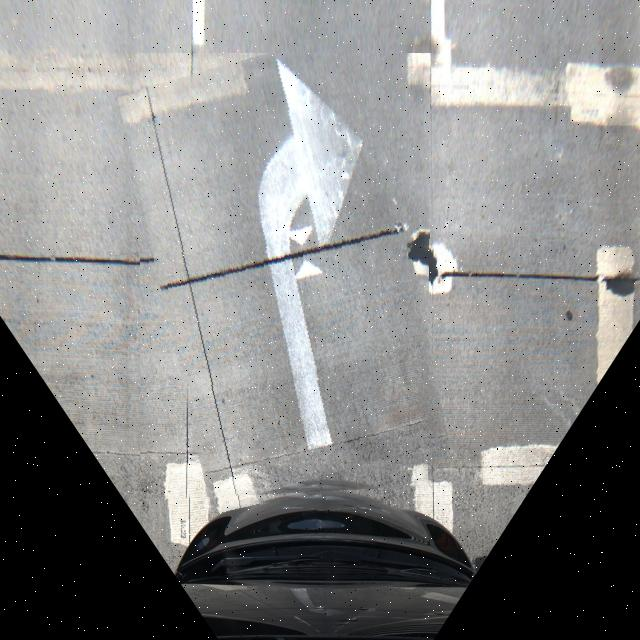right: (140, 54, 431, 504)
